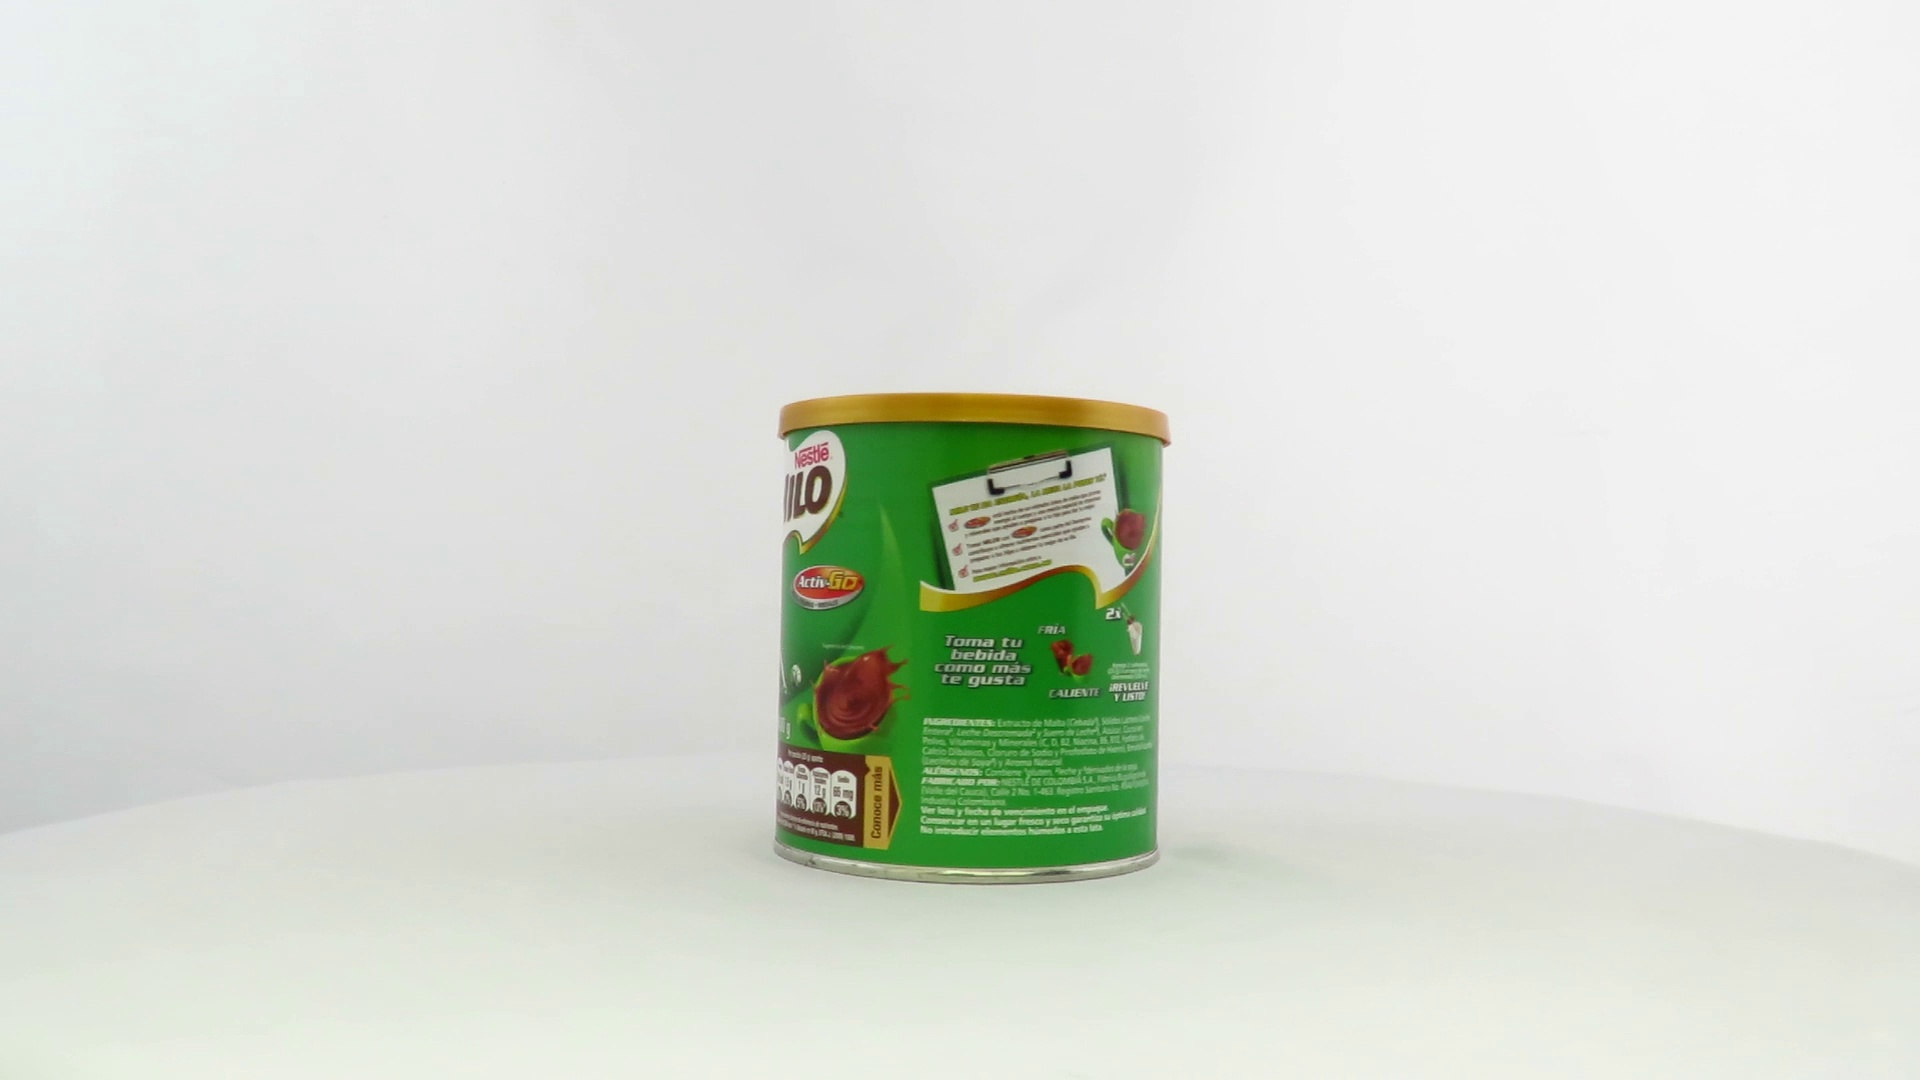COL0170203LAT40000: (767, 386, 1178, 891)
